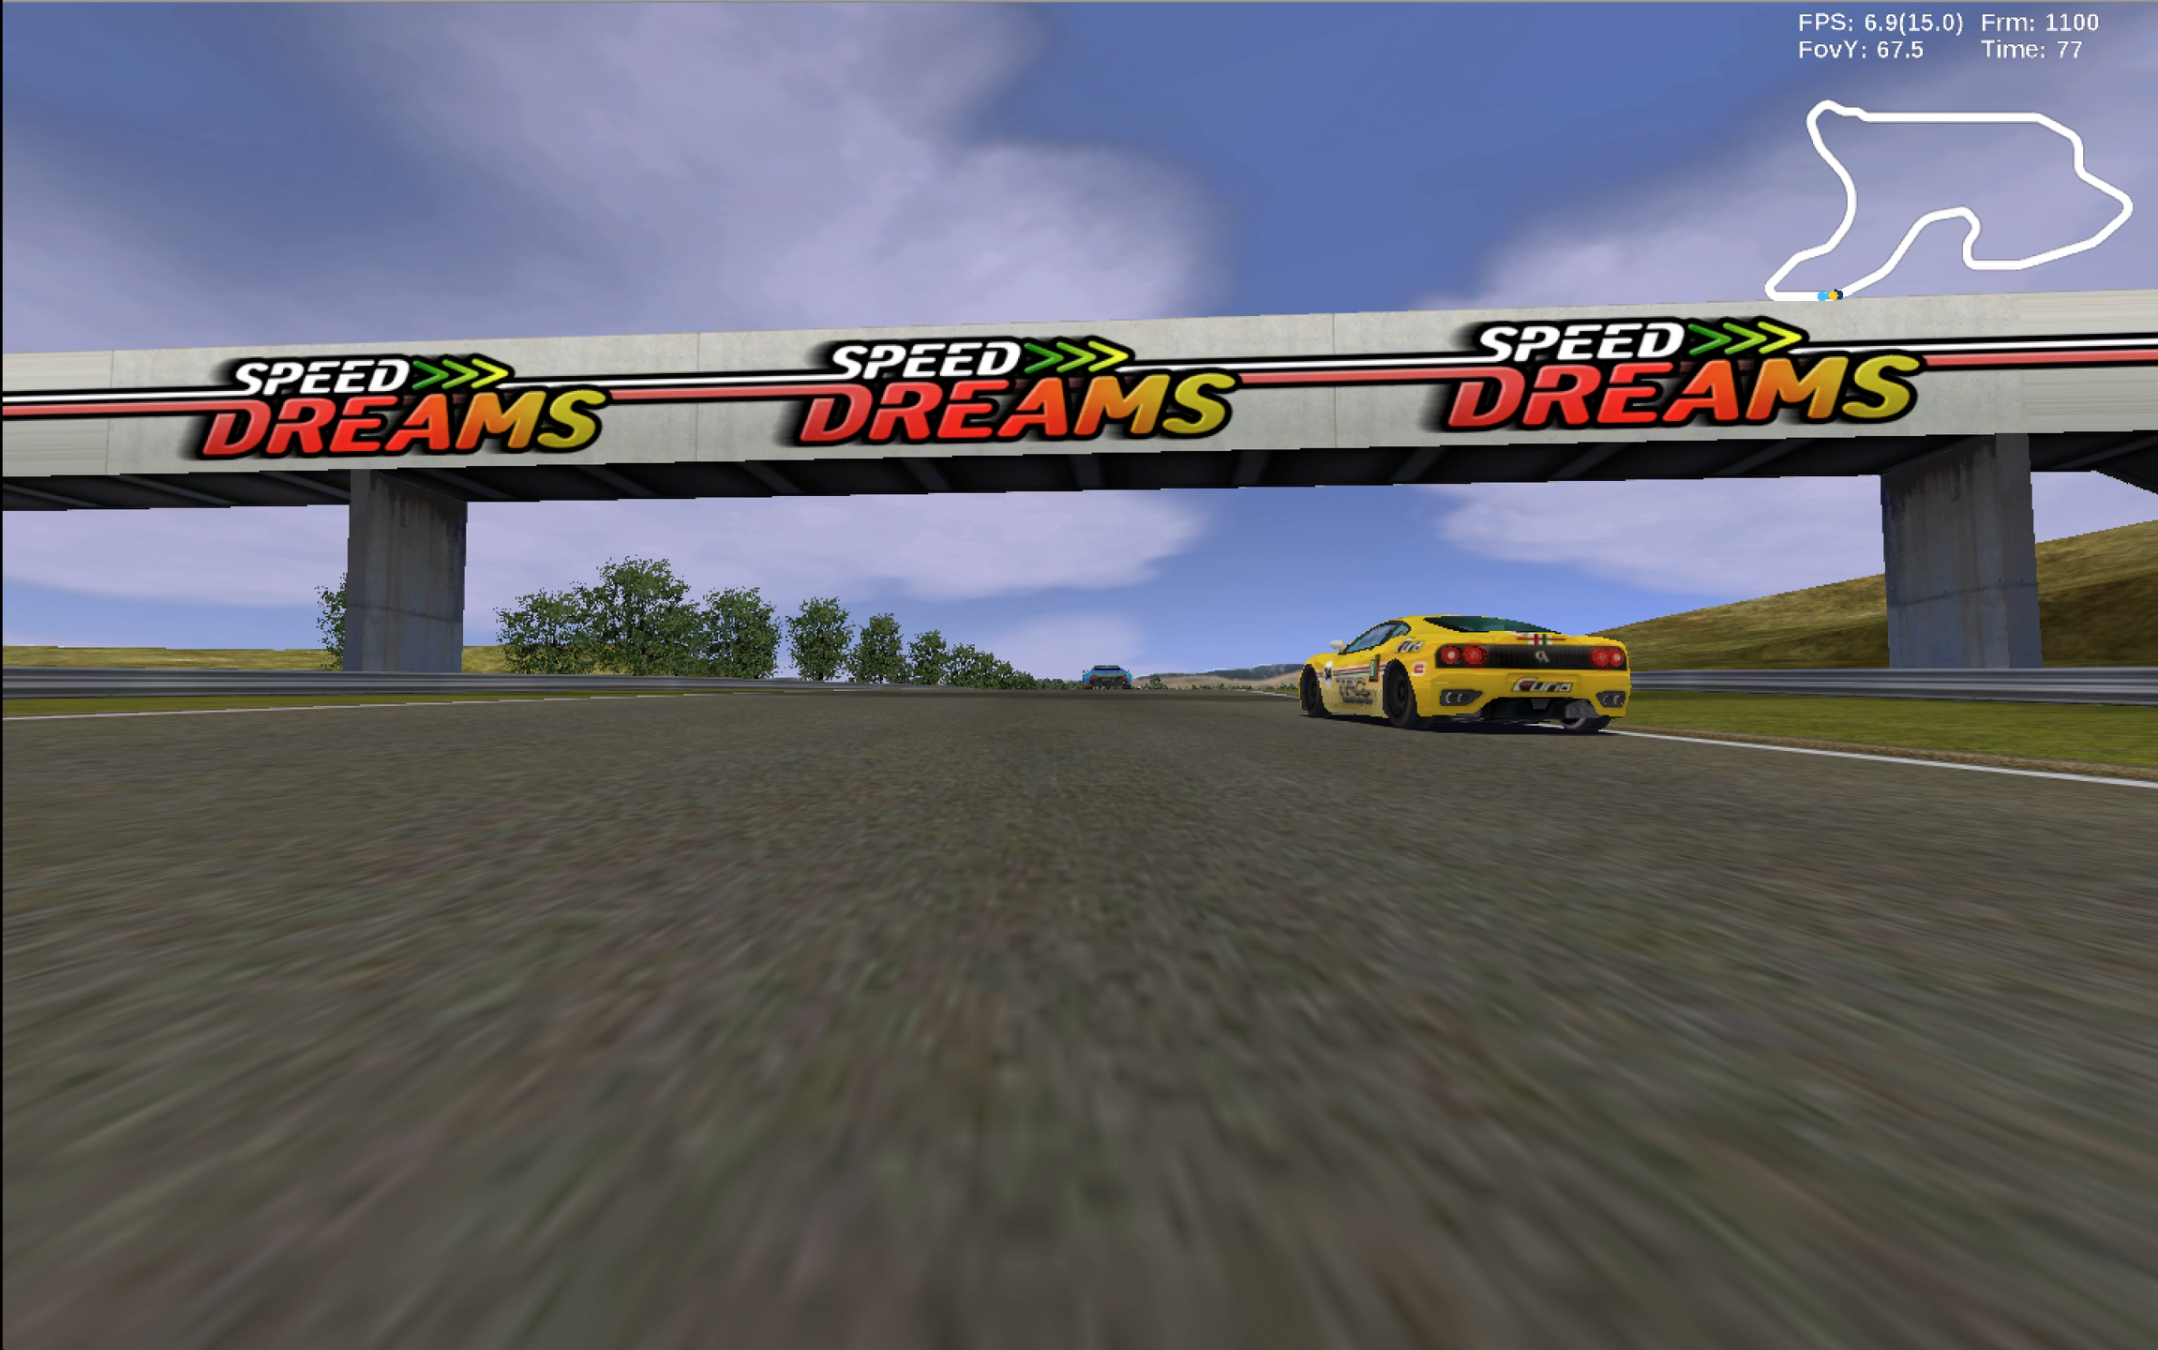Cavallo360: (1298, 614, 1632, 736)
Lynx220: (1084, 666, 1133, 694)
